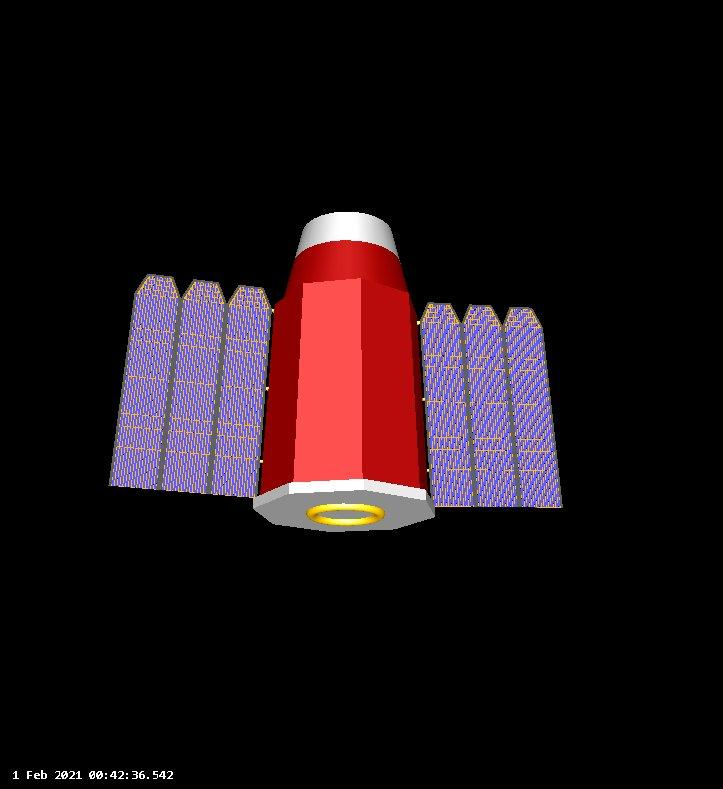body: (249, 207, 433, 536)
solar: (107, 272, 179, 492), (211, 287, 274, 505), (165, 279, 228, 495), (506, 298, 564, 516), (463, 305, 520, 510), (419, 301, 472, 514)
